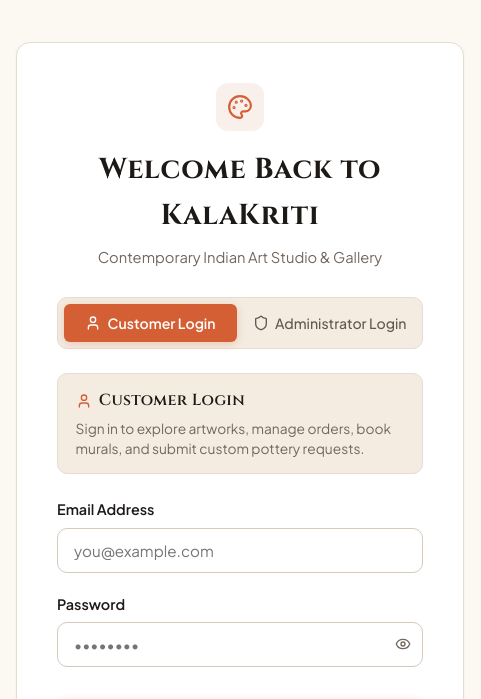
Authentication Navigation & Navbar Active Highlighting › 13. renders Customer and Administrator segmented login tabs with distinct dynamic descriptions
Expected: the heading "Welcome Back to KalaKriti" is shown, [99,150,381,235]
Expected: the text "Sign in to explore artworks, manage orders, book murals, and submit custom pottery requests." is shown, [76,420,391,457]
// Click Administrator tab
Click the tab "Administrator Login" at (330, 323), box [243,304,416,342]
(page scrolled)
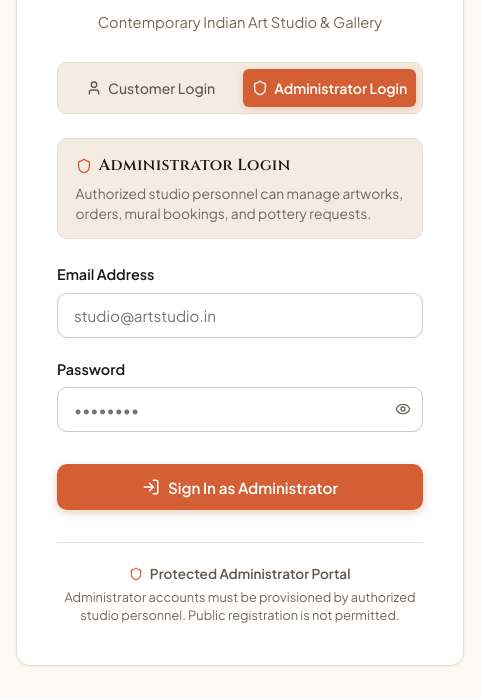
Expected: the text "Authorized studio personnel can manage artworks, orders, mural bookings, and pottery requests." is shown, [76,185,403,222]
Expected: the text "Administrator accounts must be provisioned by authorized studio personnel" is shown, [64,589,416,623]
